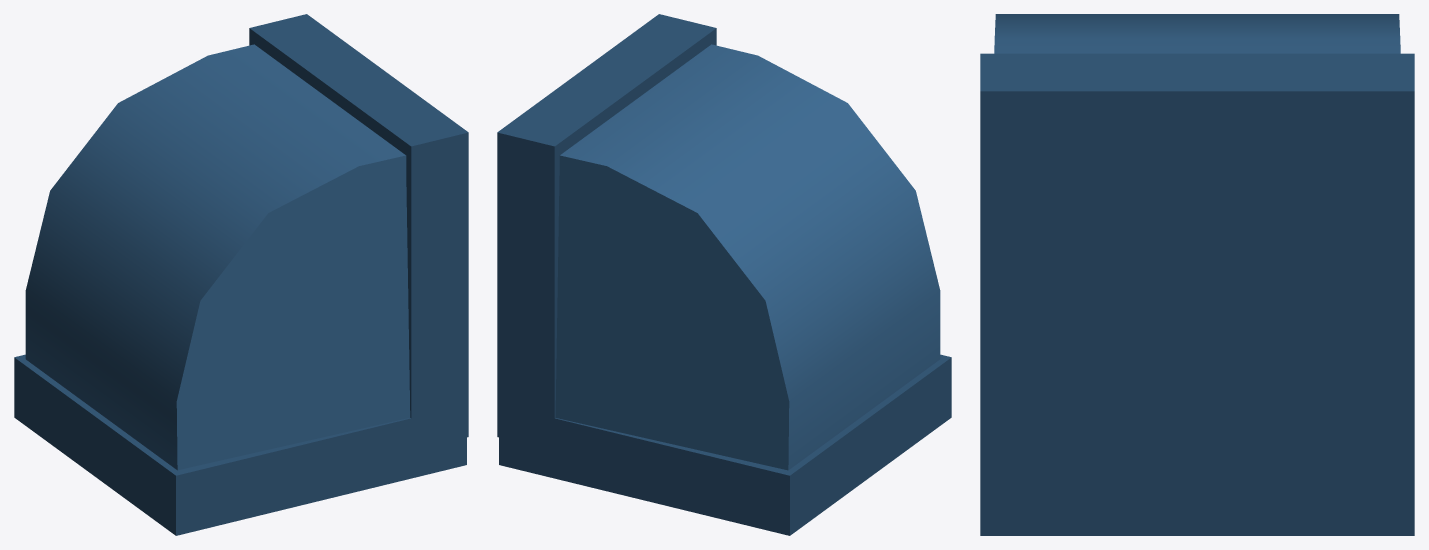
File: Vent_2_C_2.fbx
3 renders of one model, left to right at view 1: azimuth 30°, elevation 25°; view 2: azimuth 150°, elevation 25°; view 3: azimuth 270°, elevation 25°, orthographic. The views are drawn at different scales.
Parts seen in each view (by area): view 1: Vent_2_C_2; view 2: Vent_2_C_2; view 3: Vent_2_C_2.
Boxes of the visible parts, left/top/right/bottom form: Vent_2_C_2: left=14, top=14, right=468, bottom=535; Vent_2_C_2: left=497, top=14, right=951, bottom=535; Vent_2_C_2: left=980, top=14, right=1414, bottom=535.
Bounding box in the file's own units: 37.19 × 40.33 × 35.62.
